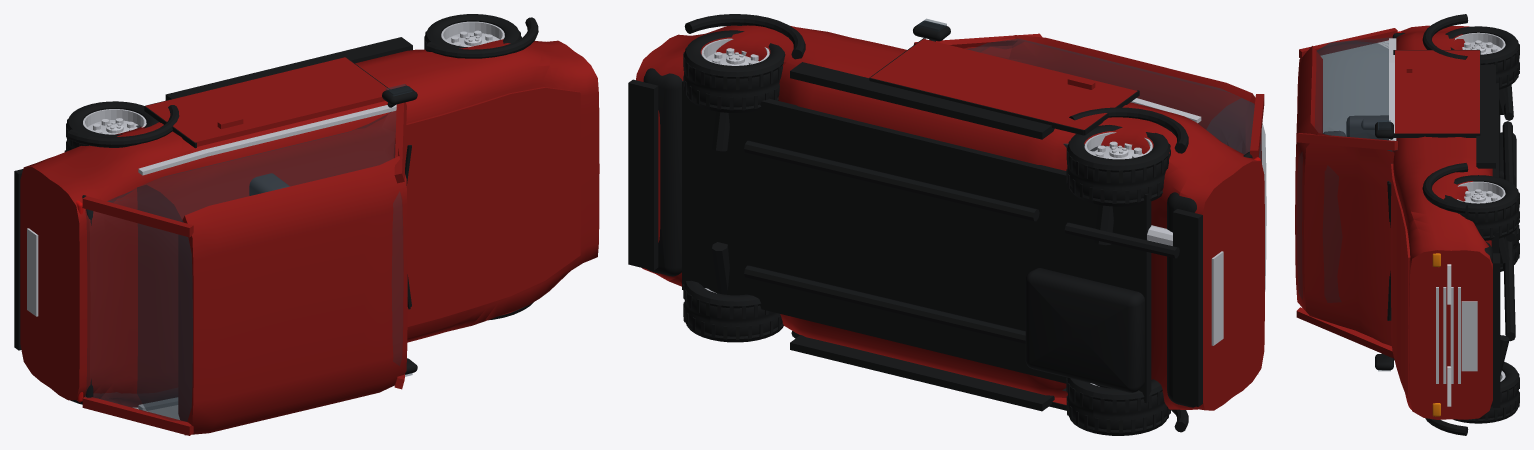
Rendered from city_car_static.obj.
3 views of the same model, side by side, from view 1: azimuth 30°, elevation 25°; view 2: azimuth 150°, elevation 25°; view 3: azimuth 270°, elevation 25° (orthographic). The views are drawn at different scales.
Parts seen in each view (by area): view 1: city_car_static; view 2: city_car_static; view 3: city_car_static.
Boxes of the visible parts, box(x1,y1,x2,y2) form: city_car_static: box(14, 14, 599, 435); city_car_static: box(628, 14, 1266, 435); city_car_static: box(1295, 14, 1519, 435).
Size of the model in its own units: 359 by 183 by 153.
